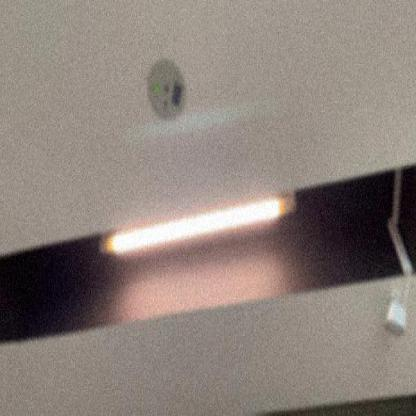light_on: (101, 180, 302, 272)
